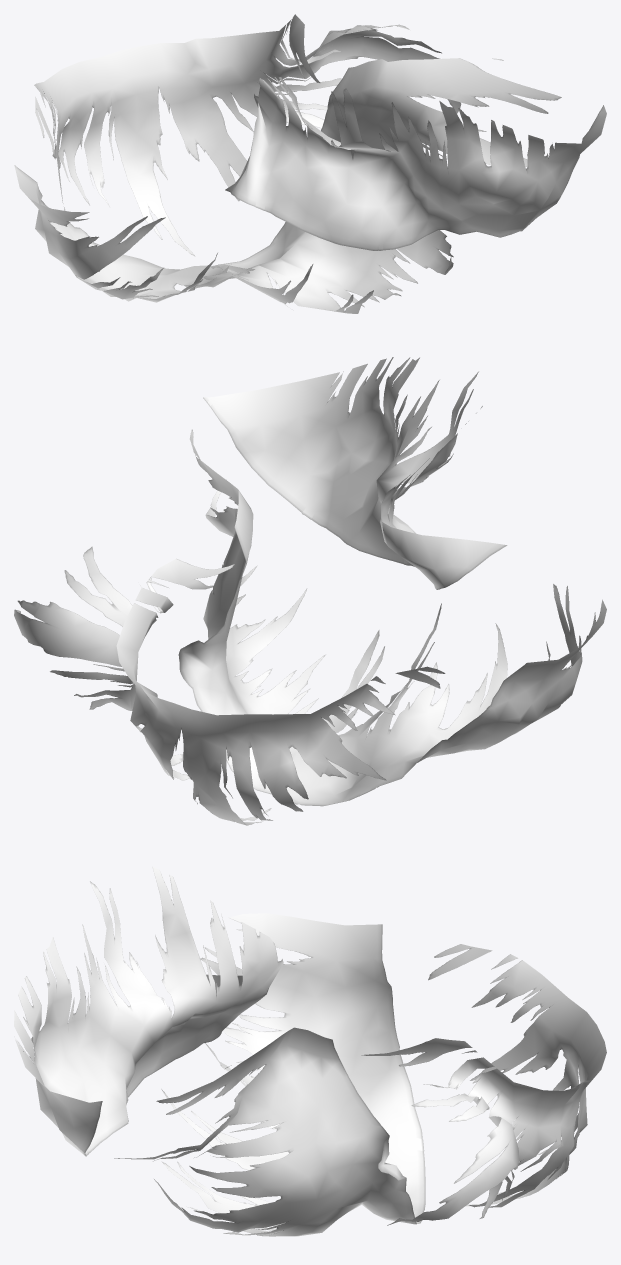
Rendered from SM_ENV_KNFRST_Leaf_C.FBX.
3 views of the same model, one above another, from view 1: azimuth 30°, elevation 25°; view 2: azimuth 150°, elevation 25°; view 3: azimuth 270°, elevation 25° (orthographic). The views are drawn at different scales.
Parts seen in each view (by area): view 1: SM_ENV_KNFRST_Leaf_C; view 2: SM_ENV_KNFRST_Leaf_C; view 3: SM_ENV_KNFRST_Leaf_C.
Part boxes in pixels (bbox=[...]): SM_ENV_KNFRST_Leaf_C: bbox=[14, 14, 606, 313]; SM_ENV_KNFRST_Leaf_C: bbox=[14, 357, 606, 825]; SM_ENV_KNFRST_Leaf_C: bbox=[14, 866, 606, 1236].
Size of the model in its own units: 3050 by 1918 by 3121.
